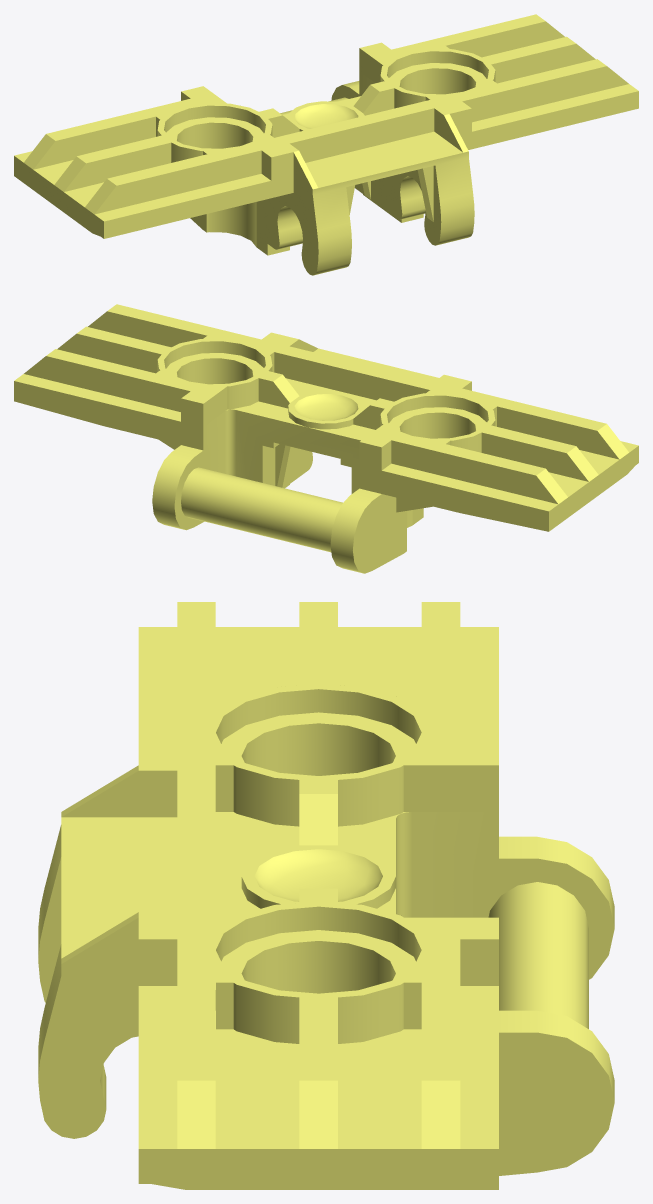
3 renders of one model, top to bottom at view 1: azimuth 30°, elevation 25°; view 2: azimuth 150°, elevation 25°; view 3: azimuth 270°, elevation 25°, orthographic. The views are drawn at different scales.
Parts seen in each view (by area): view 1: 88323.dat; view 2: 88323.dat; view 3: 88323.dat.
Part boxes in pixels (<box>): 88323.dat: <box>14,14,638,275</box>; 88323.dat: <box>14,304,638,573</box>; 88323.dat: <box>38,602,614,1189</box>.
Bounding box in the file's own units: 0.0384 × 0.0084 × 0.0179.
